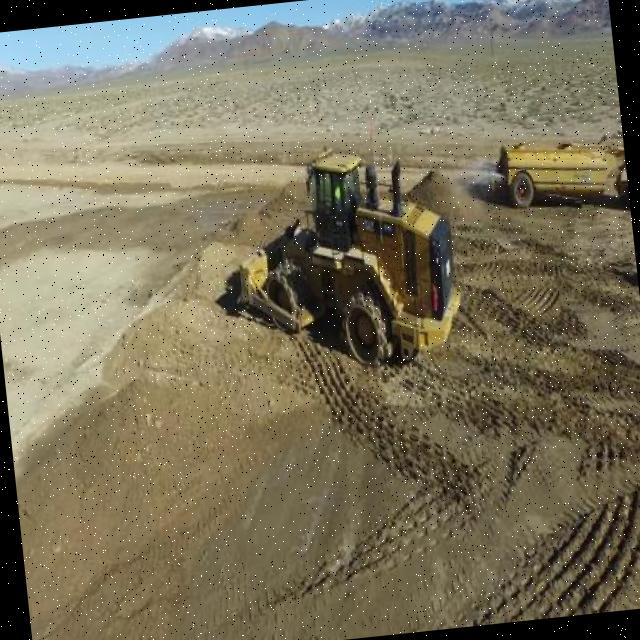Dump Truck: (494, 124, 631, 230)
